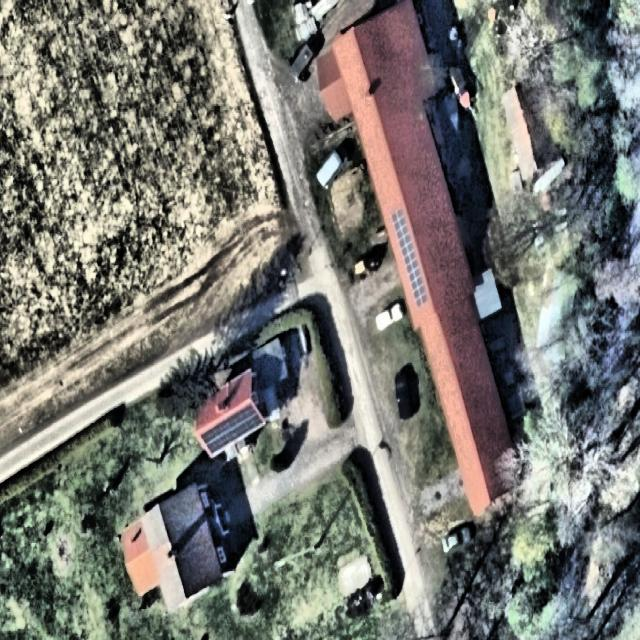roof_pv: (230, 397, 264, 443), (199, 410, 229, 461), (390, 207, 416, 245), (407, 274, 430, 309), (398, 244, 423, 273)
